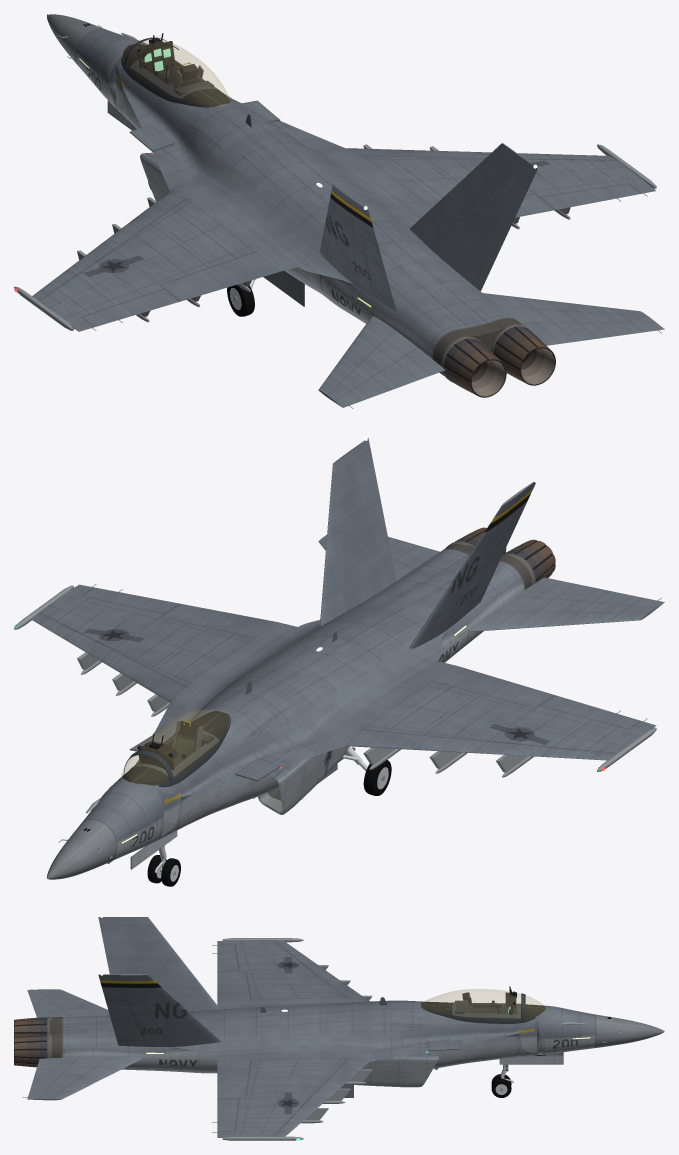
3 views of the same model, one above another, from view 1: azimuth 30°, elevation 25°; view 2: azimuth 150°, elevation 25°; view 3: azimuth 270°, elevation 25° (orthographic). The views are drawn at different scales.
Parts seen in each view (by area): view 1: fuselage, stab_L, nozzle, stab_R, canopy, flap_L, cockpit, lef_L, rudder_R, lef_R, ail_L, ail_R (+4 smaller); view 2: fuselage, stab_L, canopy, lef_L, lef_R, cockpit, flap_L, flap_R, rudder_R, nozzle, ail_L, stab_R (+4 smaller); view 3: fuselage, stab_R, canopy, nozzle, stab_L, lef_R, cockpit, flap_R, rudder_R, flap_L, lef_L, ail_R (+4 smaller).
Boxes of the visible parts, <box> form: fuselage: <box>14,14,661,408</box>; stab_L: <box>318,316,445,407</box>; nozzle: <box>440,324,555,397</box>; stab_R: <box>483,293,664,345</box>; canopy: <box>122,39,229,106</box>; flap_L: <box>160,252,279,301</box>; cockpit: <box>129,33,219,98</box>; lef_L: <box>32,191,185,301</box>; rudder_R: <box>463,201,517,281</box>; lef_R: <box>348,148,616,160</box>; ail_L: <box>82,288,179,327</box>; ail_R: <box>540,183,640,209</box>; fuselage: <box>14,438,661,879</box>; stab_L: <box>471,577,664,631</box>; canopy: <box>122,710,229,785</box>; lef_L: <box>346,729,616,760</box>; lef_R: <box>31,612,185,702</box>; cockpit: <box>129,720,219,777</box>; flap_L: <box>432,665,554,708</box>; flap_R: <box>160,603,279,637</box>; rudder_R: <box>364,488,394,583</box>; nozzle: <box>446,527,555,584</box>; ail_L: <box>540,695,640,729</box>; stab_R: <box>318,535,439,580</box>; fuselage: <box>22,917,664,1140</box>; stab_R: <box>27,1056,142,1100</box>; canopy: <box>419,989,546,1018</box>; nozzle: <box>14,1016,51,1067</box>; stab_L: <box>27,989,109,1017</box>; lef_R: <box>273,1058,369,1136</box>; cockpit: <box>452,986,520,1018</box>; flap_R: <box>217,1060,250,1099</box>; rudder_R: <box>105,999,144,1040</box>; flap_L: <box>217,970,250,1001</box>; lef_L: <box>273,940,369,1001</box>; ail_R: <box>217,1098,239,1131</box>.
Bounding box in the file's own units: 13.37 × 4.68 × 18.32.
10 materials, 1 textured.
